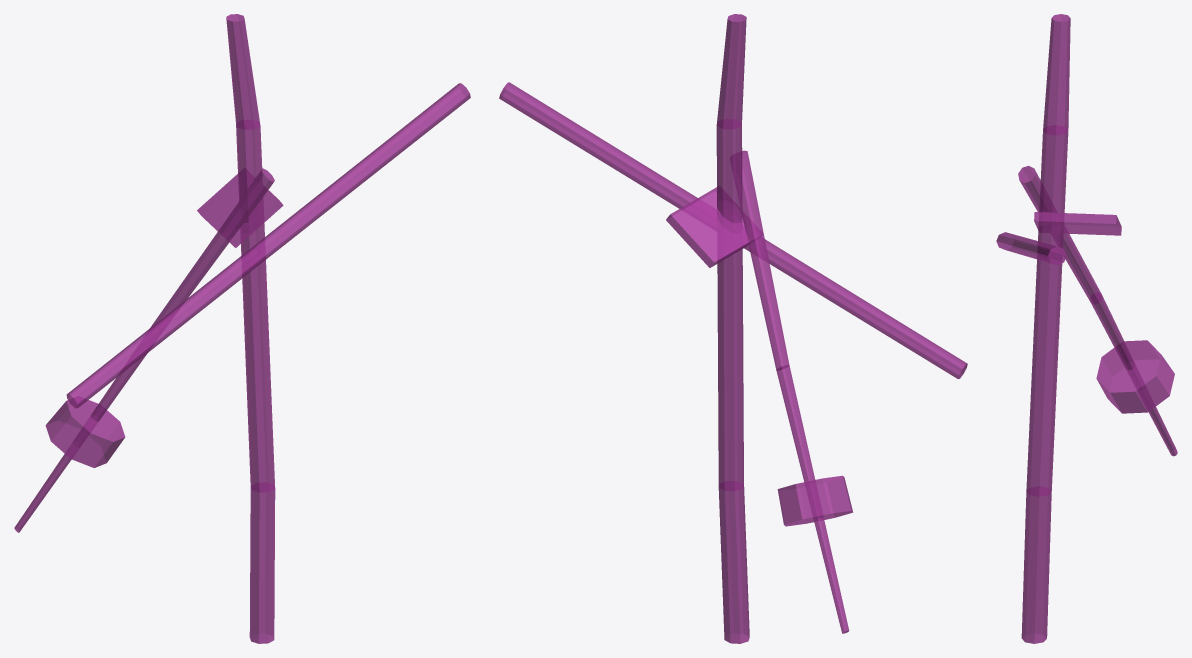
Rendered from SM_Prop_Wreck_Mast_Medium_01_Collision.fbx.
3 renders of one model, left to right at view 1: azimuth 30°, elevation 25°; view 2: azimuth 150°, elevation 25°; view 3: azimuth 270°, elevation 25°, orthographic. The views are drawn at different scales.
Parts seen in each view (by area): view 1: SM_Prop_Wreck_Mast_Medium_01_Collision; view 2: SM_Prop_Wreck_Mast_Medium_01_Collision; view 3: SM_Prop_Wreck_Mast_Medium_01_Collision.
Boxes of the visible parts, x1=… form: SM_Prop_Wreck_Mast_Medium_01_Collision: x1=14, y1=14, x2=470, y2=643; SM_Prop_Wreck_Mast_Medium_01_Collision: x1=499, y1=14, x2=967, y2=643; SM_Prop_Wreck_Mast_Medium_01_Collision: x1=996, y1=14, x2=1177, y2=643.
Bounding box in the file's own units: 1969 × 2724 × 729.
